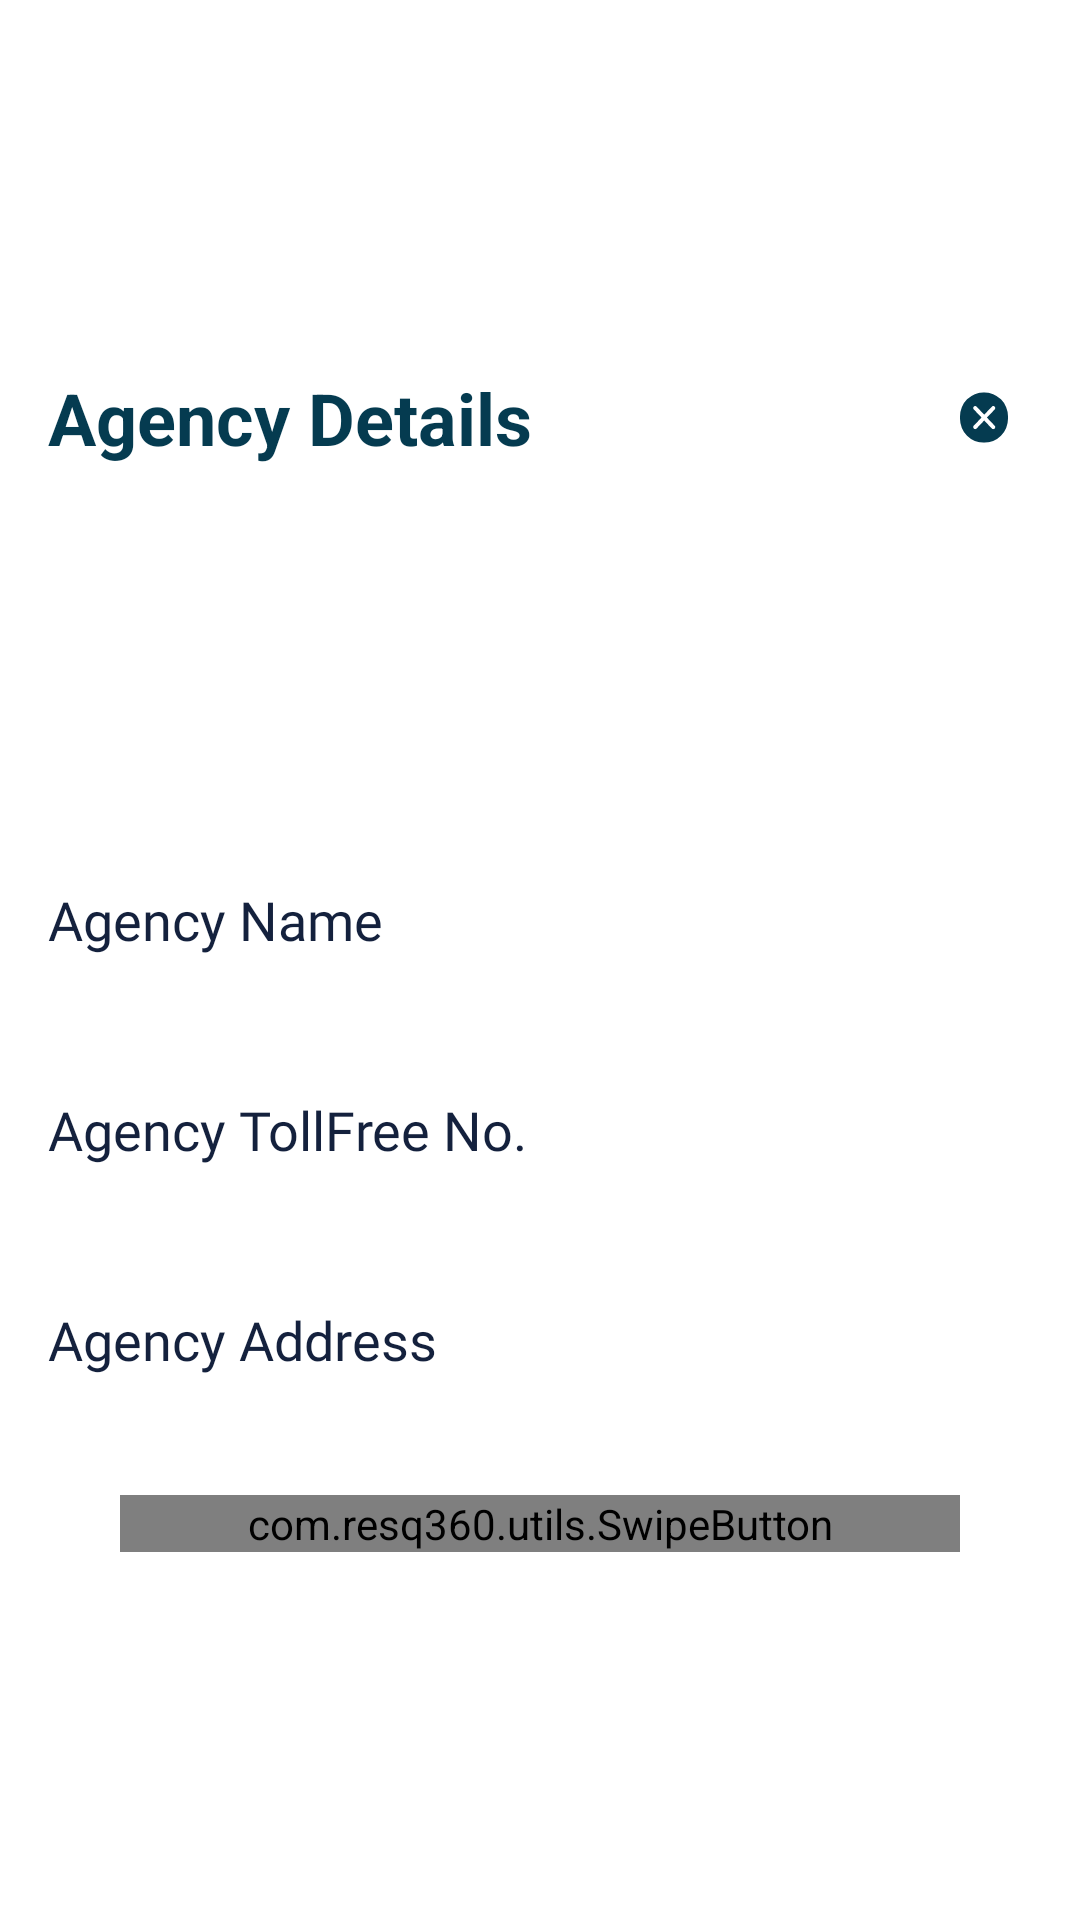

Named icons in this screenshot (1080w x 1920h) and their centers, (x,y):
close: (984,417)
